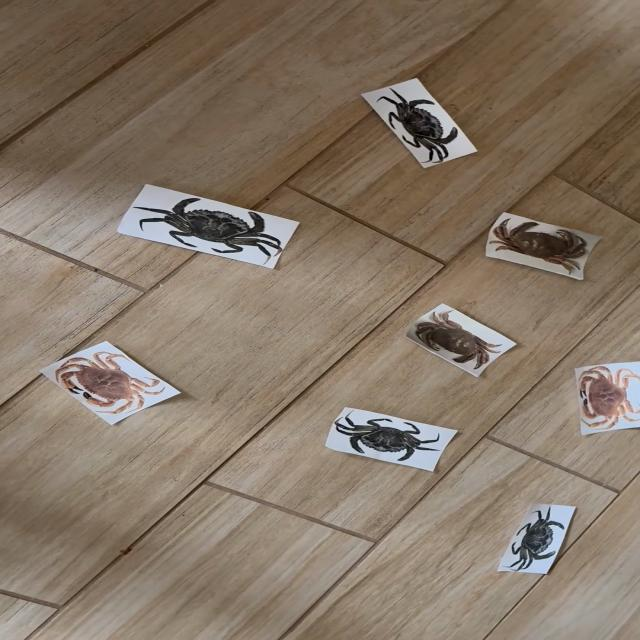egc: (123, 198, 287, 264), (363, 80, 475, 163), (327, 410, 456, 470), (504, 504, 575, 573), (467, 327, 508, 354)
